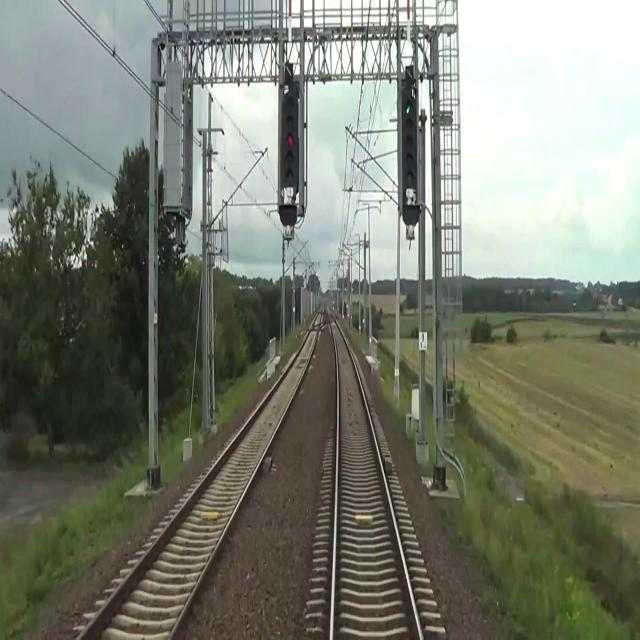rail-track: (81, 327, 317, 639), (332, 318, 419, 639)
